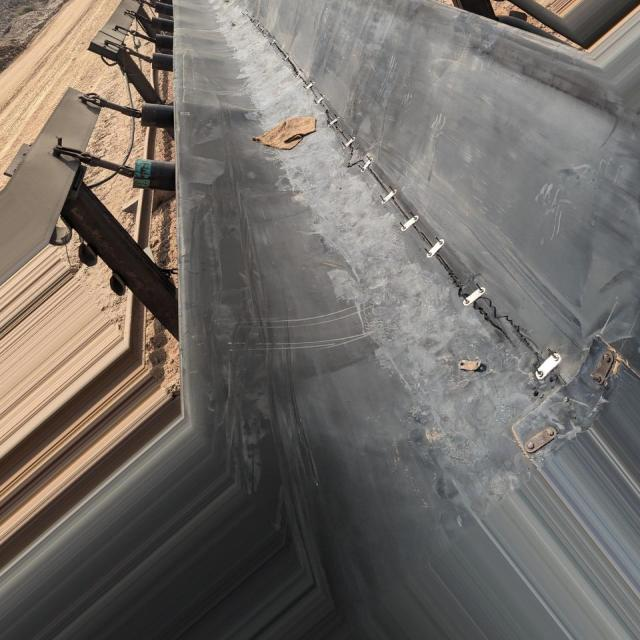Other Objects: (252, 115, 317, 150)
Roller: (132, 159, 177, 192), (153, 0, 173, 69), (141, 103, 176, 130)
patch work: (256, 42, 573, 392), (496, 338, 631, 473)
